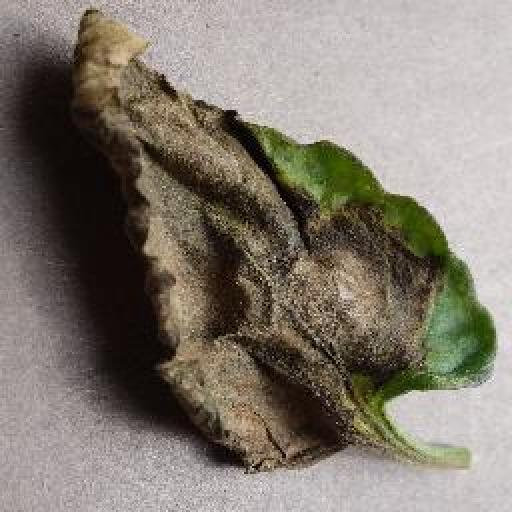Late Blight: (68, 1, 496, 471)
